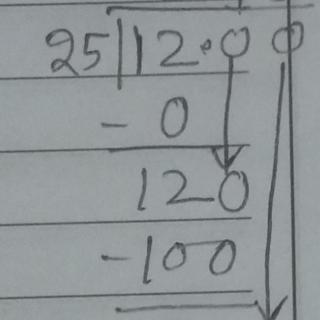.: (196, 37, 216, 58)
0: (155, 96, 191, 140), (218, 171, 247, 211), (272, 23, 308, 55), (158, 236, 189, 273), (209, 241, 236, 275), (221, 27, 251, 57)
1: (139, 231, 154, 288), (135, 164, 149, 215)
2: (42, 25, 80, 78), (155, 30, 200, 69), (164, 167, 211, 204)
5: (83, 26, 110, 71)
